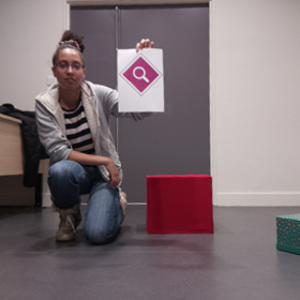medium: (144, 172, 219, 235)
small: (275, 213, 300, 258)
